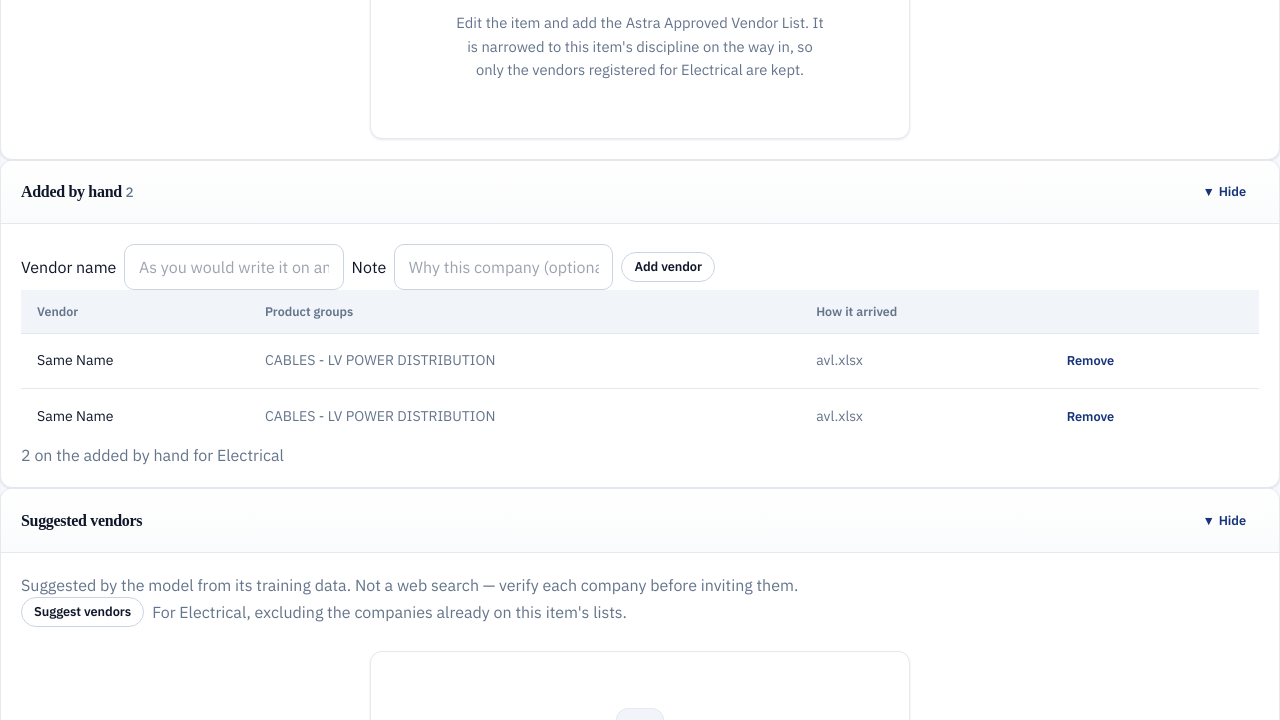
Test case: ItemDetail › a vendor added by hand › removes one by id and re-reads the screen
(page scrolled)
Click the button with aria-label "remove Same Name": (1090, 361) x1=1054 y1=346 x2=1127 y2=376
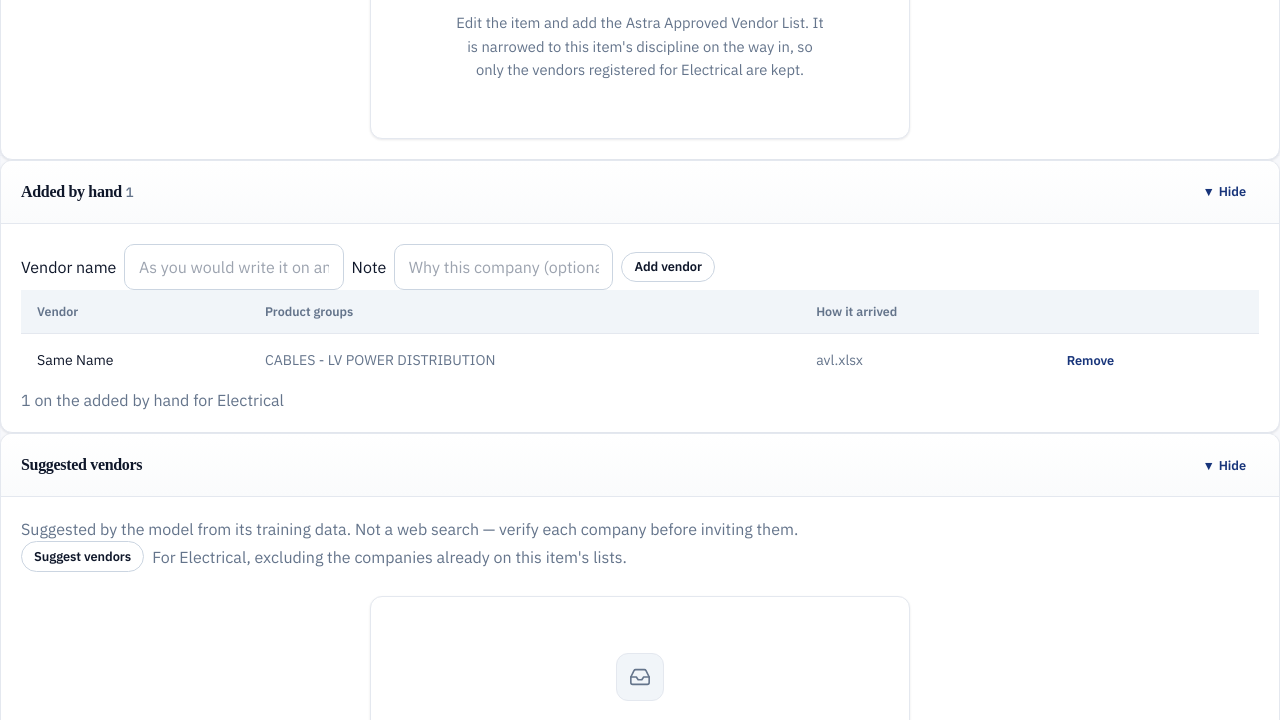
Expected: the text "Same Name" is shown once, x1=21 y1=334 x2=249 y2=388
